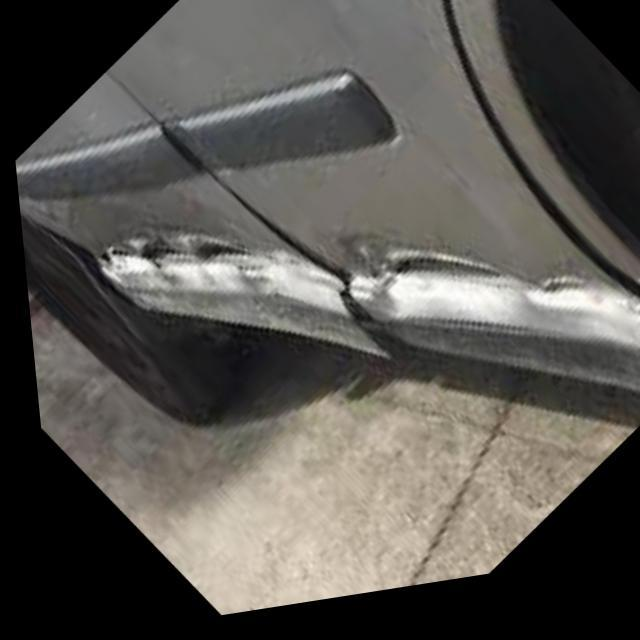crack: (73, 193, 640, 412)
